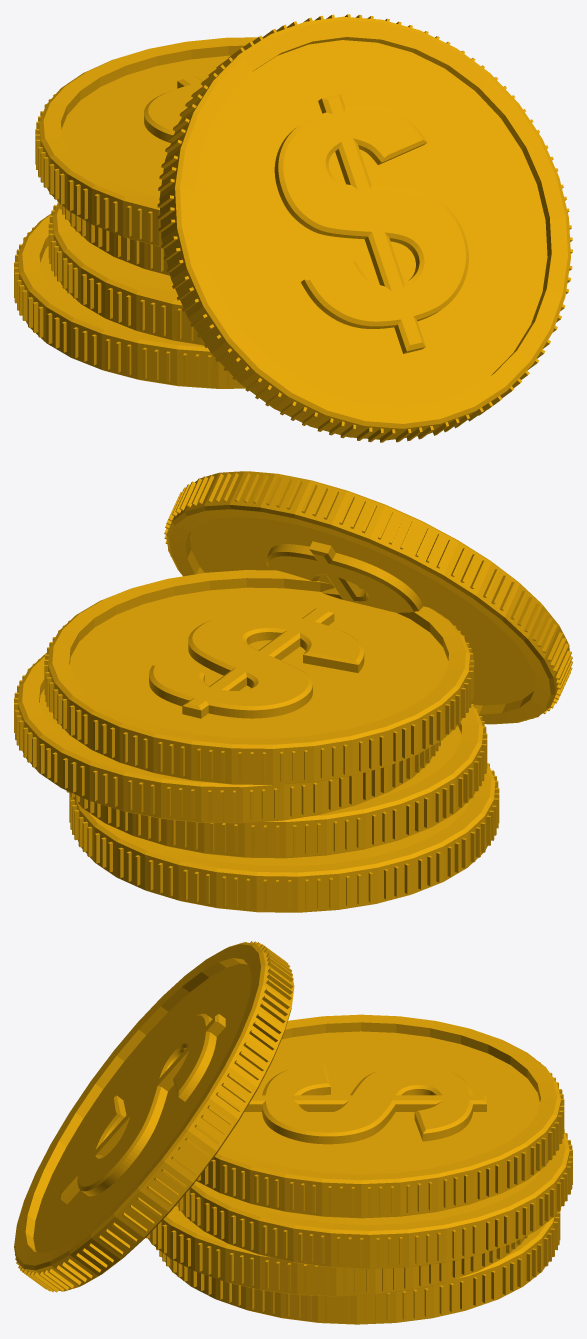
Rendered from 4Coin.fbx.
3 views of the same model, one above another, from view 1: azimuth 30°, elevation 25°; view 2: azimuth 150°, elevation 25°; view 3: azimuth 270°, elevation 25° (orthographic). The views are drawn at different scales.
Parts seen in each view (by area): view 1: Coin.004, Coin.003, Coin, Coin.001, Coin.002; view 2: Coin.003, Coin.004, Coin, Coin.002, Coin.001; view 3: Coin.003, Coin.004, Coin.002, Coin, Coin.001.
Part boxes in pixels (x1,y1,x2,y2): Coin.004: (157,14,572,442); Coin.003: (35,37,257,246); Coin: (14,214,245,388); Coin.001: (48,202,205,345); Coin.002: (57,201,170,275); Coin.003: (44,570,474,784); Coin.004: (164,471,572,724); Coin: (69,763,499,912); Coin.002: (14,653,440,823); Coin.001: (66,704,487,858); Coin.003: (196,1014,564,1218); Coin.004: (14,941,294,1292); Coin.002: (175,1129,572,1268); Coin: (156,1211,560,1324); Coin.001: (146,1206,527,1296).
Bounding box in the file's own units: 230 × 167 × 280.
